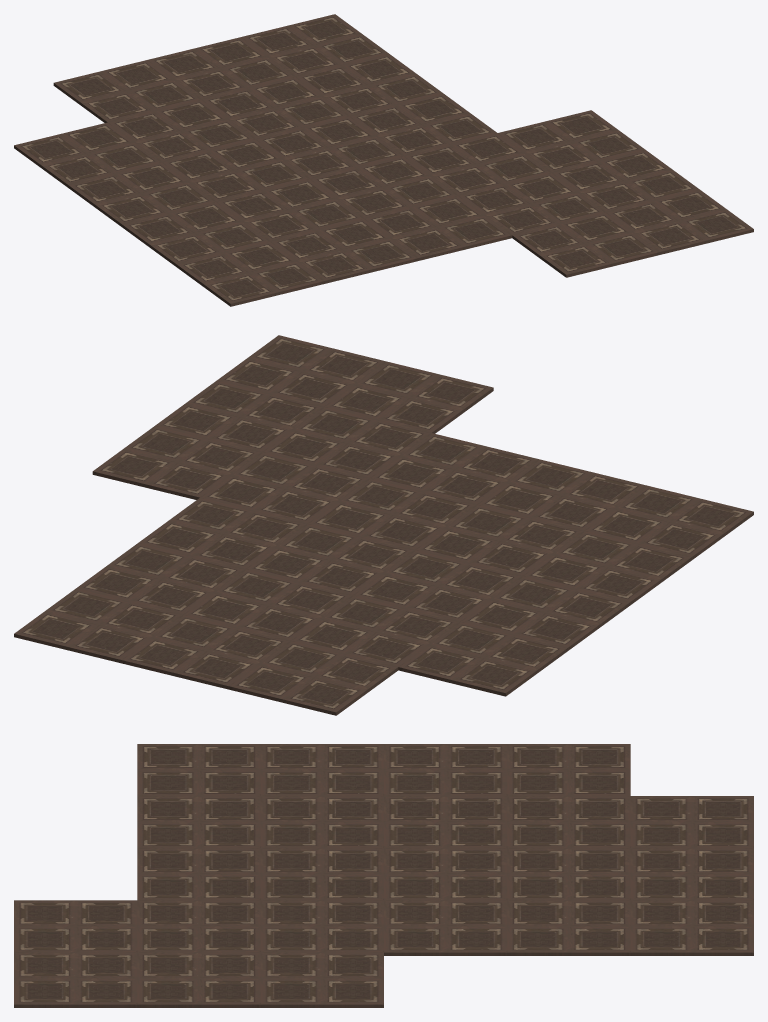
The model's file is Homeworld_Interior_Ly_Room_F_Ceiling_01_Vo.fbx.
The picture shows the model from 3 angles, top to bottom: view 1: azimuth 30°, elevation 25°; view 2: azimuth 150°, elevation 25°; view 3: azimuth 270°, elevation 25°; orthographic projection. The views are drawn at different scales.
Parts seen in each view (by area): view 1: Homeworld_Interior_Ly_Room_F_Ceiling_01_Vo; view 2: Homeworld_Interior_Ly_Room_F_Ceiling_01_Vo; view 3: Homeworld_Interior_Ly_Room_F_Ceiling_01_Vo.
Part boxes in pixels (box(x1,y1,x2,y2)): Homeworld_Interior_Ly_Room_F_Ceiling_01_Vo: box(14, 14, 753, 306); Homeworld_Interior_Ly_Room_F_Ceiling_01_Vo: box(14, 335, 753, 715); Homeworld_Interior_Ly_Room_F_Ceiling_01_Vo: box(14, 744, 753, 1007).
Size of the model in its own units: 25 by 0.15 by 30.
